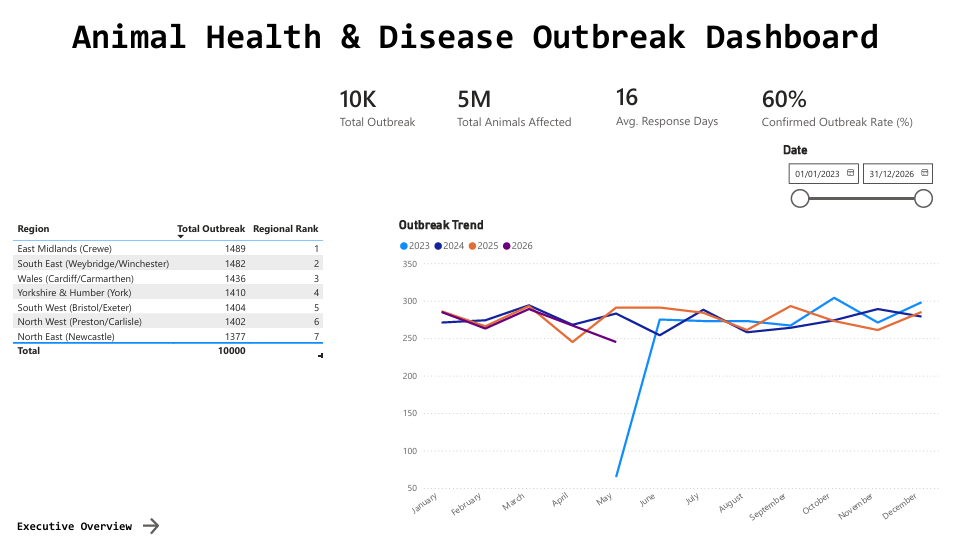

Layout of this report page (visuals, bound fields, positions):
{"tool":"powerbi","page":{"name":"Overview","canvas":[1280,720],"ordinal":0},"visuals":[{"type":"cardVisual","fields":{"Data":["animal_health_outbreaks.Total Outbreak"]},"box":[424,77,166,99],"z":0},{"type":"cardVisual","fields":{"Data":["animal_health_outbreaks.Total Animals Affected"]},"box":[585,77,218,99],"z":1000},{"type":"cardVisual","fields":{"Data":["animal_health_outbreaks.Avg. Response Days"]},"box":[803,71,200,107],"z":2000},{"type":"cardVisual","fields":{"Data":["animal_health_outbreaks.Confirmed Outbreak Rate (%)"]},"box":[1003,77,277,99],"z":3000},{"type":"tableEx","title":"Outbreak by region","fields":{"Values":["animal_health_outbreaks.region","animal_health_outbreaks.Total Outbreak","select","animal_health_outbreaks.Regional Rank"]},"box":[0,281,507,230],"z":4000},{"type":"lineChart","title":"Outbreak Trend","fields":{"Y":["animal_health_outbreaks.Total Outbreak"],"Category":["Date.Date.Variation.Date Hierarchy.Year","Date.Date.Variation.Date Hierarchy.Quarter","Date.Date.Variation.Date Hierarchy.Month"],"Series":["Date.Date.Variation.Date Hierarchy.Year"]},"box":[530,281,750,439],"z":5000},{"type":"textbox","box":[0,0,1280,71],"z":6000},{"type":"slicer","title":"Date","fields":{"Values":["Date.Date"]},"box":[1056,178,219,103],"z":7000},{"type":"actionButton","box":[178,689,35,31],"z":8000},{"type":"textbox","box":[0,690,178,30],"z":9000}]}

Visuals, with their boxes in screenshot pixels (x1, y1, x2, y2), scaled from the page's 1280x720 canvas onto the 958x544 screenshot:
cardVisual - animal_health_outbreaks.Total Outbreak: select_region(317, 58, 442, 133)
cardVisual - animal_health_outbreaks.Total Animals Affected: select_region(438, 58, 601, 133)
cardVisual - animal_health_outbreaks.Avg. Response Days: select_region(601, 54, 751, 134)
cardVisual - animal_health_outbreaks.Confirmed Outbreak Rate (%): select_region(751, 58, 957, 133)
"Outbreak by region" tableEx: select_region(0, 212, 379, 386)
"Outbreak Trend" lineChart: select_region(397, 212, 957, 543)
textbox: select_region(0, 0, 957, 54)
"Date" slicer: select_region(790, 134, 954, 212)
actionButton: select_region(133, 521, 159, 543)
textbox: select_region(0, 521, 133, 543)
